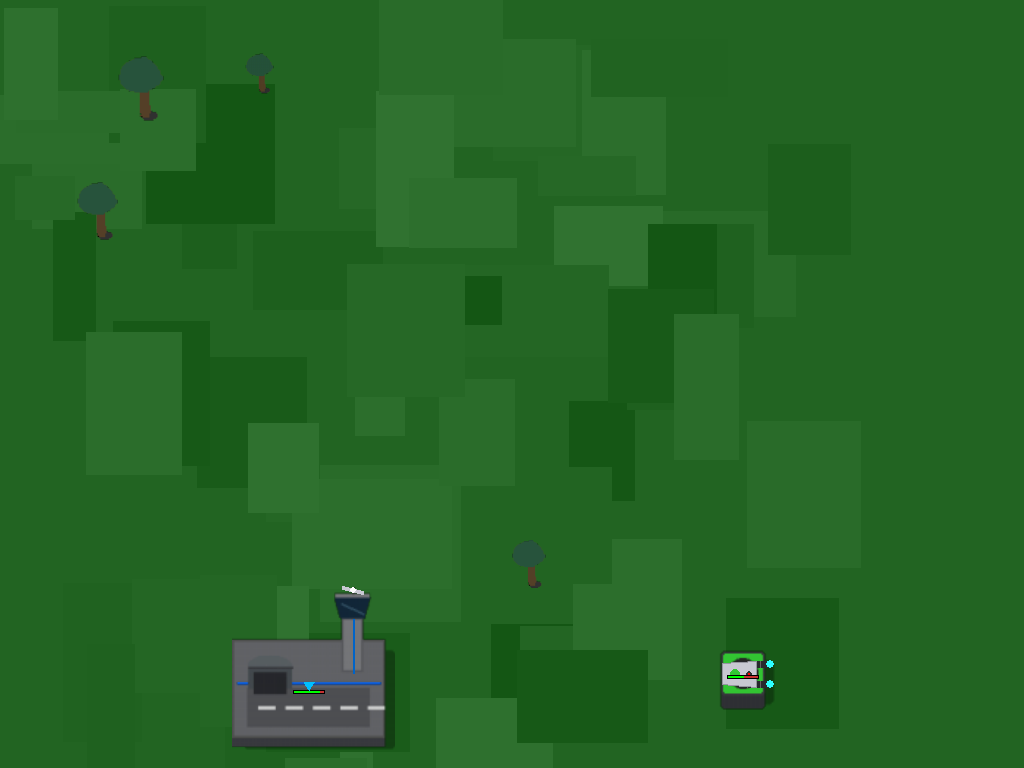Airfield: (238, 617, 380, 759)
AntiAirTurret: (710, 640, 776, 706)
